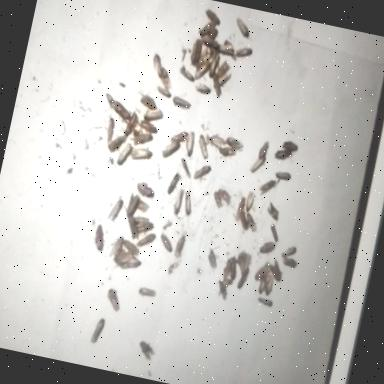pbw: (232, 249, 252, 283), (88, 316, 106, 348), (132, 178, 157, 200), (127, 145, 154, 164), (177, 63, 200, 85), (266, 260, 287, 284), (105, 198, 124, 224), (187, 37, 204, 66), (232, 16, 252, 40), (182, 128, 198, 158), (91, 225, 108, 253), (123, 215, 142, 240), (104, 287, 122, 313), (124, 191, 140, 220), (130, 128, 152, 149), (106, 132, 127, 154), (108, 100, 131, 120), (141, 106, 165, 125), (201, 53, 218, 79), (195, 134, 212, 160), (115, 142, 132, 168), (136, 91, 158, 111), (122, 113, 138, 140), (136, 118, 160, 136), (120, 237, 142, 256), (148, 52, 164, 78), (212, 277, 230, 300), (158, 232, 176, 255), (208, 74, 225, 98), (257, 177, 275, 199), (224, 135, 246, 153), (248, 154, 266, 176), (108, 232, 122, 260), (214, 58, 230, 82), (205, 246, 221, 270), (192, 162, 211, 182), (243, 212, 260, 234), (158, 68, 175, 90), (232, 198, 246, 224), (256, 269, 270, 295), (103, 117, 116, 145), (226, 258, 240, 284), (171, 190, 185, 216), (202, 9, 222, 27), (136, 232, 156, 250), (266, 222, 284, 242), (170, 94, 192, 110), (172, 235, 186, 260), (169, 129, 188, 147), (264, 202, 281, 222), (161, 140, 178, 160), (101, 91, 118, 110), (178, 158, 194, 178), (243, 190, 256, 214), (221, 256, 233, 282), (209, 136, 231, 150), (135, 285, 157, 299), (254, 262, 268, 284), (216, 189, 234, 206), (236, 212, 252, 231), (194, 81, 213, 97), (165, 173, 178, 196), (273, 148, 291, 164), (182, 192, 194, 216), (236, 270, 249, 292), (272, 170, 292, 184), (210, 190, 224, 210), (215, 143, 232, 159), (258, 240, 274, 257), (255, 294, 274, 308), (280, 246, 296, 262), (234, 46, 252, 60), (257, 140, 269, 160), (198, 46, 208, 70), (281, 140, 299, 152), (264, 276, 274, 296), (156, 87, 172, 99), (204, 37, 218, 49)
